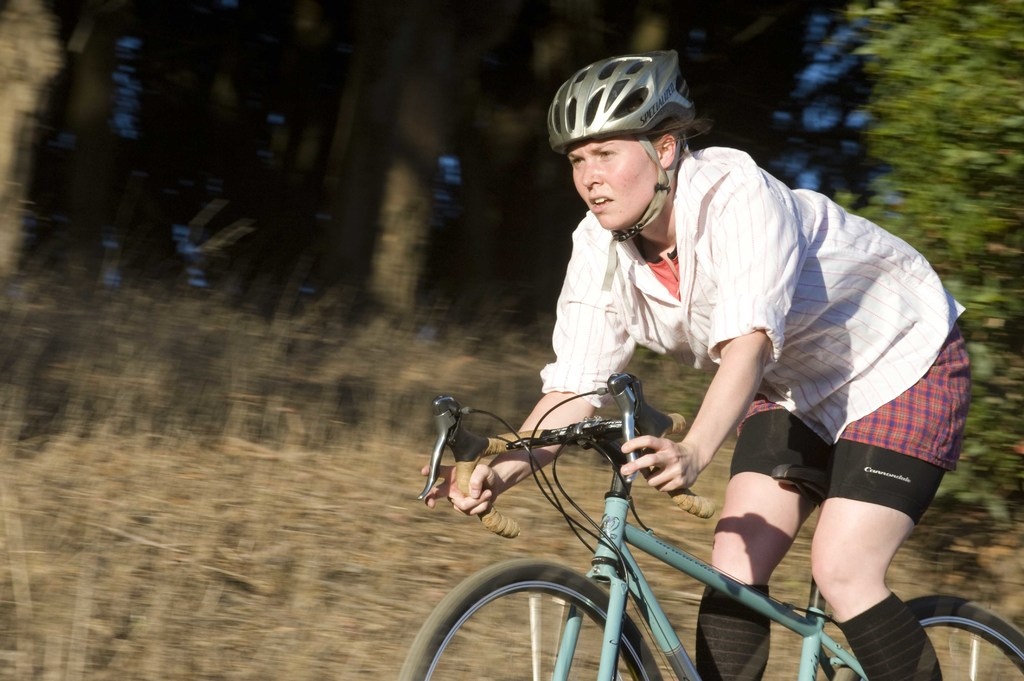Bike: (329, 454, 768, 681)
